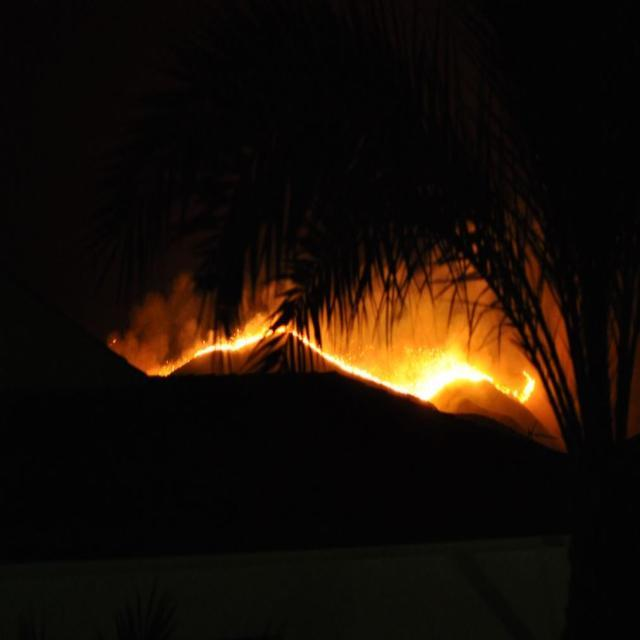Fire: (436, 349, 536, 406), (306, 338, 396, 392), (201, 318, 305, 354), (397, 343, 434, 402), (146, 350, 200, 378)
Smoke: (349, 224, 558, 340), (212, 250, 340, 314), (108, 271, 198, 344), (118, 348, 142, 374)
